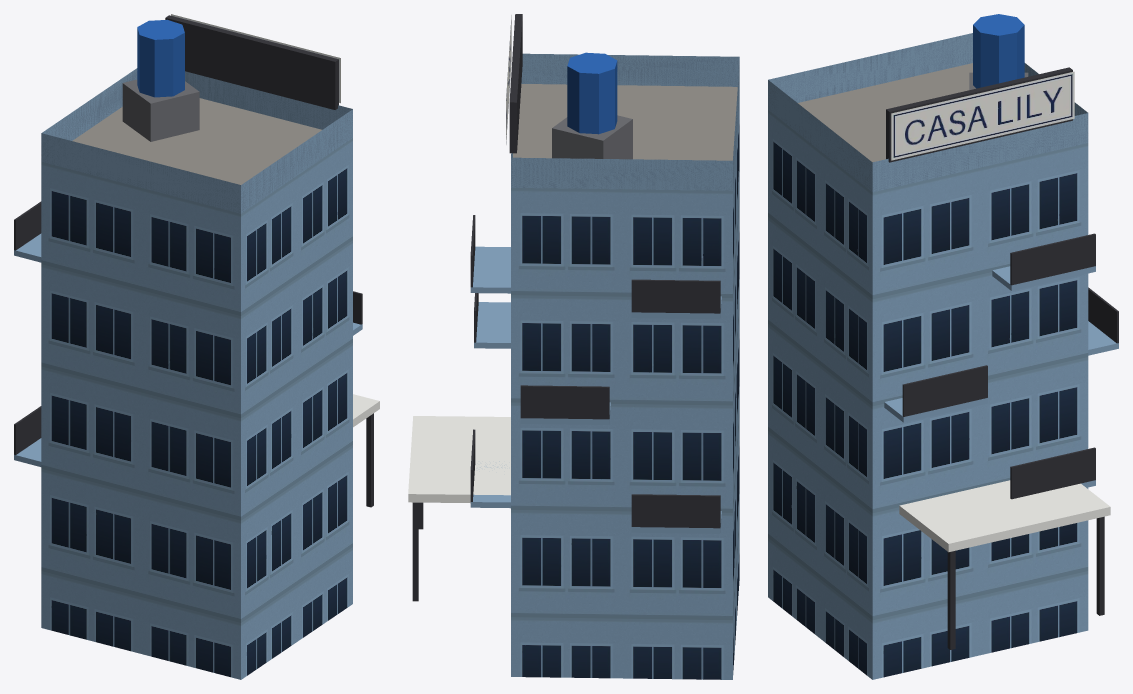
File: hotels-27358-14871.f555fc97.glb
The picture shows the model from 3 angles, left to right: view 1: azimuth 30°, elevation 25°; view 2: azimuth 150°, elevation 25°; view 3: azimuth 270°, elevation 25°; orthographic projection. The views are drawn at different scales.
Size of the model in its own units: 10.78 by 17.58 by 9.51.
4 materials, 2 textured.
